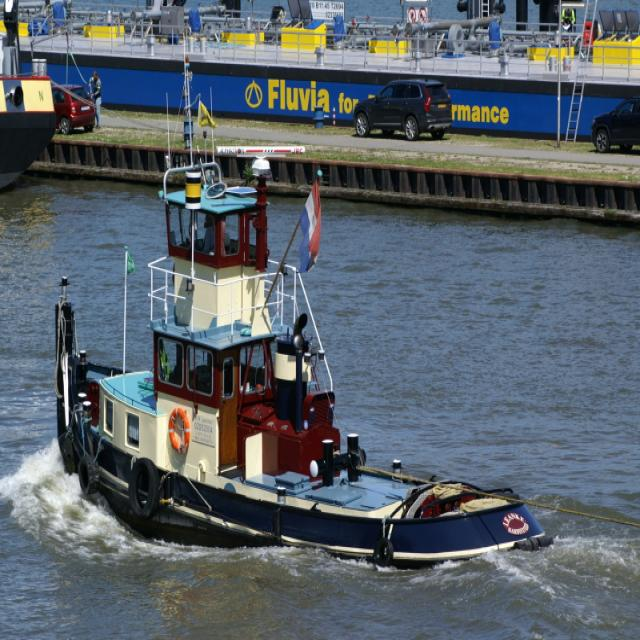tugboat: (50, 143, 559, 574)
